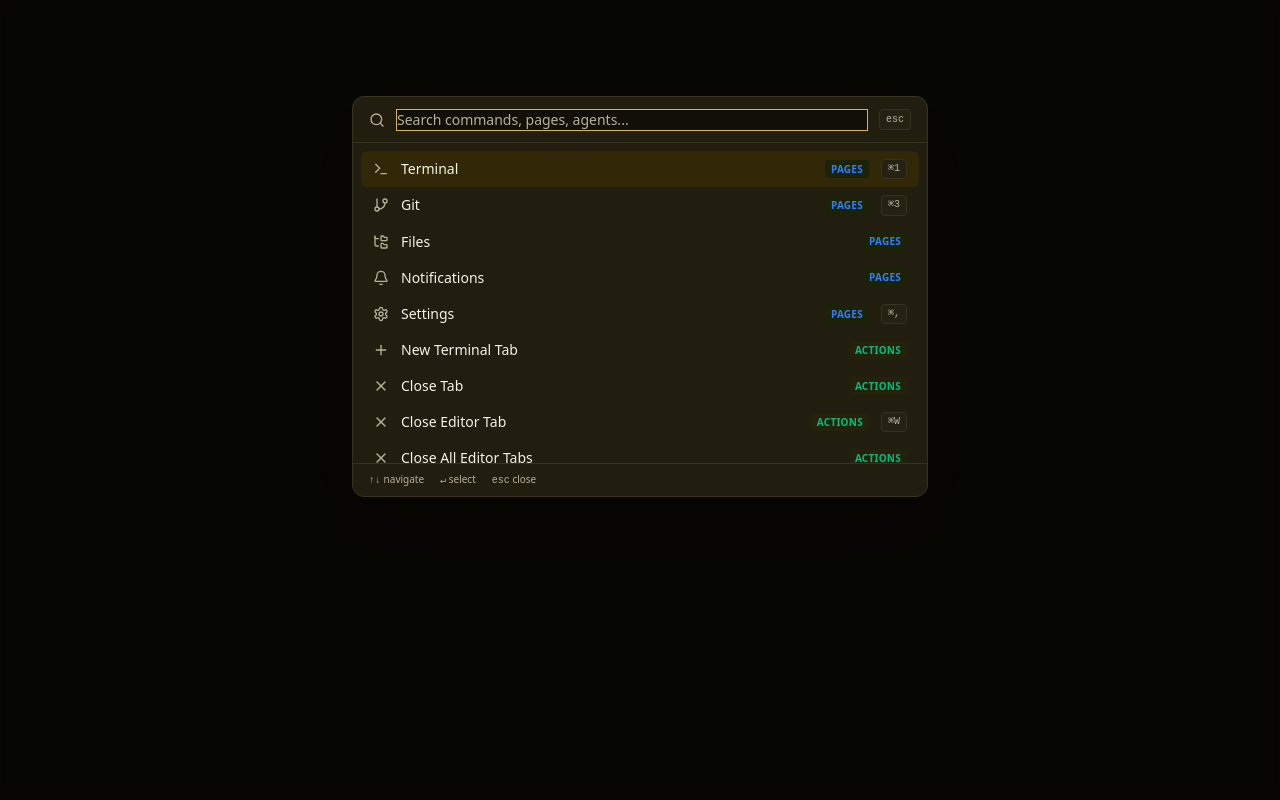
CommandPalette › filters commands by search query
Type "git" into the dropdown with placeholder "Search commands, pages, agents..." at (632, 120), box [397,110,867,130]
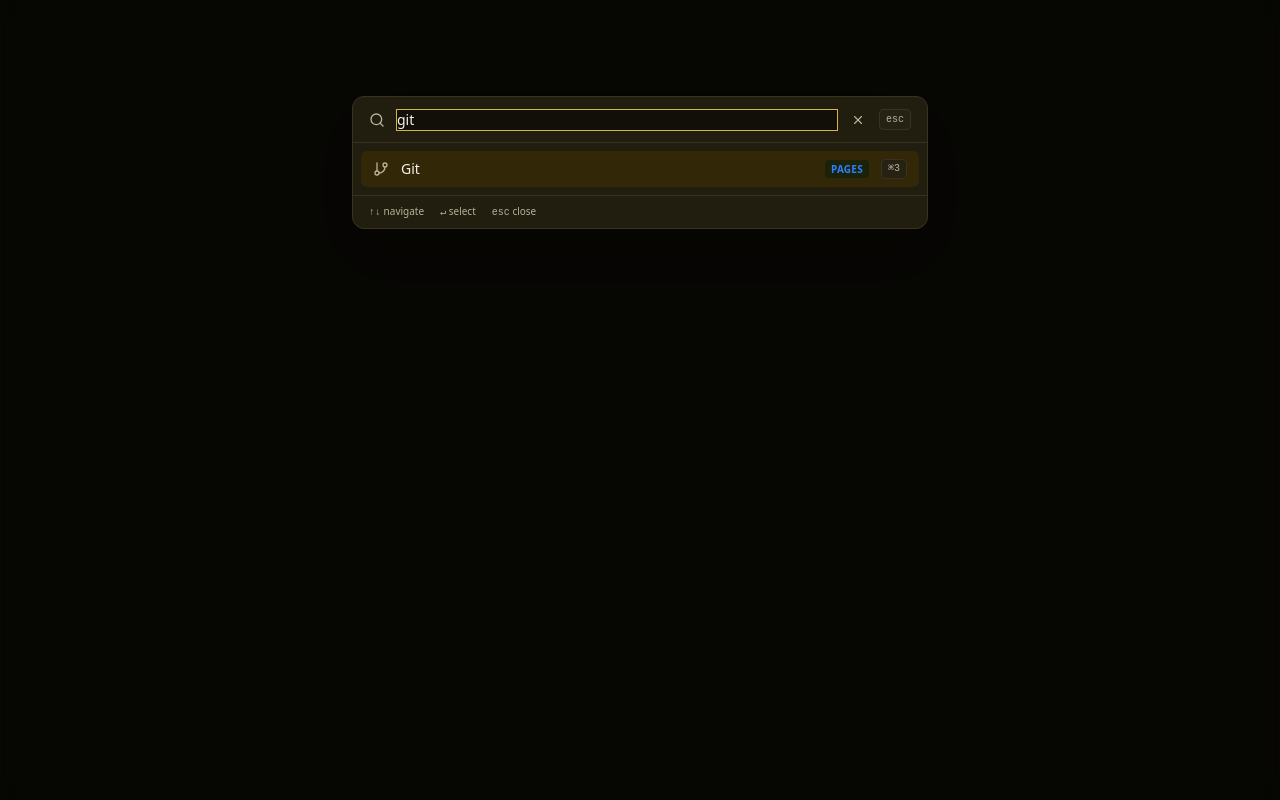
Check: the text "Git" is shown, box [401,159,420,178]
Check: the option "Terminal" is gone
